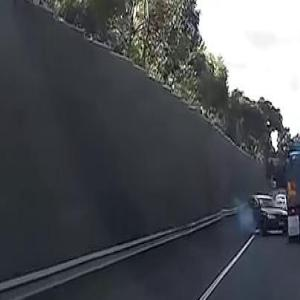significant: (244, 136, 300, 250)
